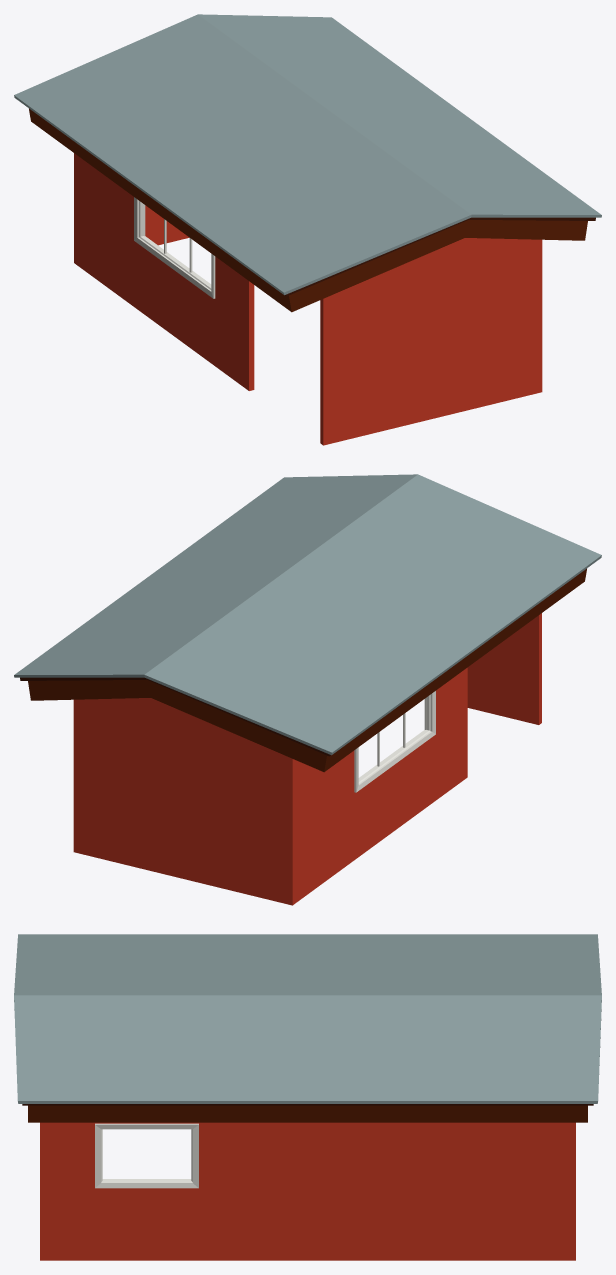
The model's file is House(3).fbx.
3 renders of one model, top to bottom at view 1: azimuth 30°, elevation 25°; view 2: azimuth 150°, elevation 25°; view 3: azimuth 270°, elevation 25°, orthographic. The views are drawn at different scales.
Parts seen in each view (by area): view 1: Roof, Wall_NoWindowR, Wall_WindowL, Wall_NoWindowL, Wall_WindowL.001; view 2: Roof, Wall_NoWindowL, Wall_WindowL, Wall_NoWindowR; view 3: Roof, Wall_WindowL.001, Wall_NoWindowL, Wall_NoWindowR.
Boxes of the visible parts, bbox=[...] form: Roof: bbox=[14, 14, 601, 312]; Wall_NoWindowR: bbox=[320, 238, 542, 445]; Wall_WindowL: bbox=[76, 154, 254, 390]; Wall_NoWindowL: bbox=[74, 153, 189, 264]; Wall_WindowL.001: bbox=[536, 239, 542, 393]; Roof: bbox=[14, 474, 601, 772]; Wall_NoWindowL: bbox=[73, 698, 295, 905]; Wall_WindowL: bbox=[294, 667, 467, 902]; Wall_NoWindowR: bbox=[467, 613, 541, 724]; Roof: bbox=[14, 934, 601, 1122]; Wall_WindowL.001: bbox=[40, 1122, 571, 1260]; Wall_NoWindowL: bbox=[569, 1122, 575, 1260]; Wall_NoWindowR: bbox=[40, 1122, 46, 1260].
Size of the model in its own units: 1192 by 740 by 1777.
